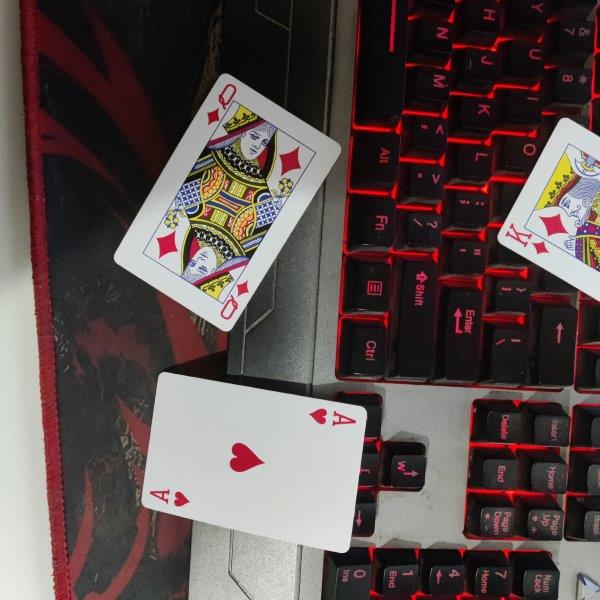Ace of Hearts: (139, 371, 369, 554)
King of Diamonds: (497, 116, 600, 300)
Queen of Diamonds: (114, 70, 343, 335)
